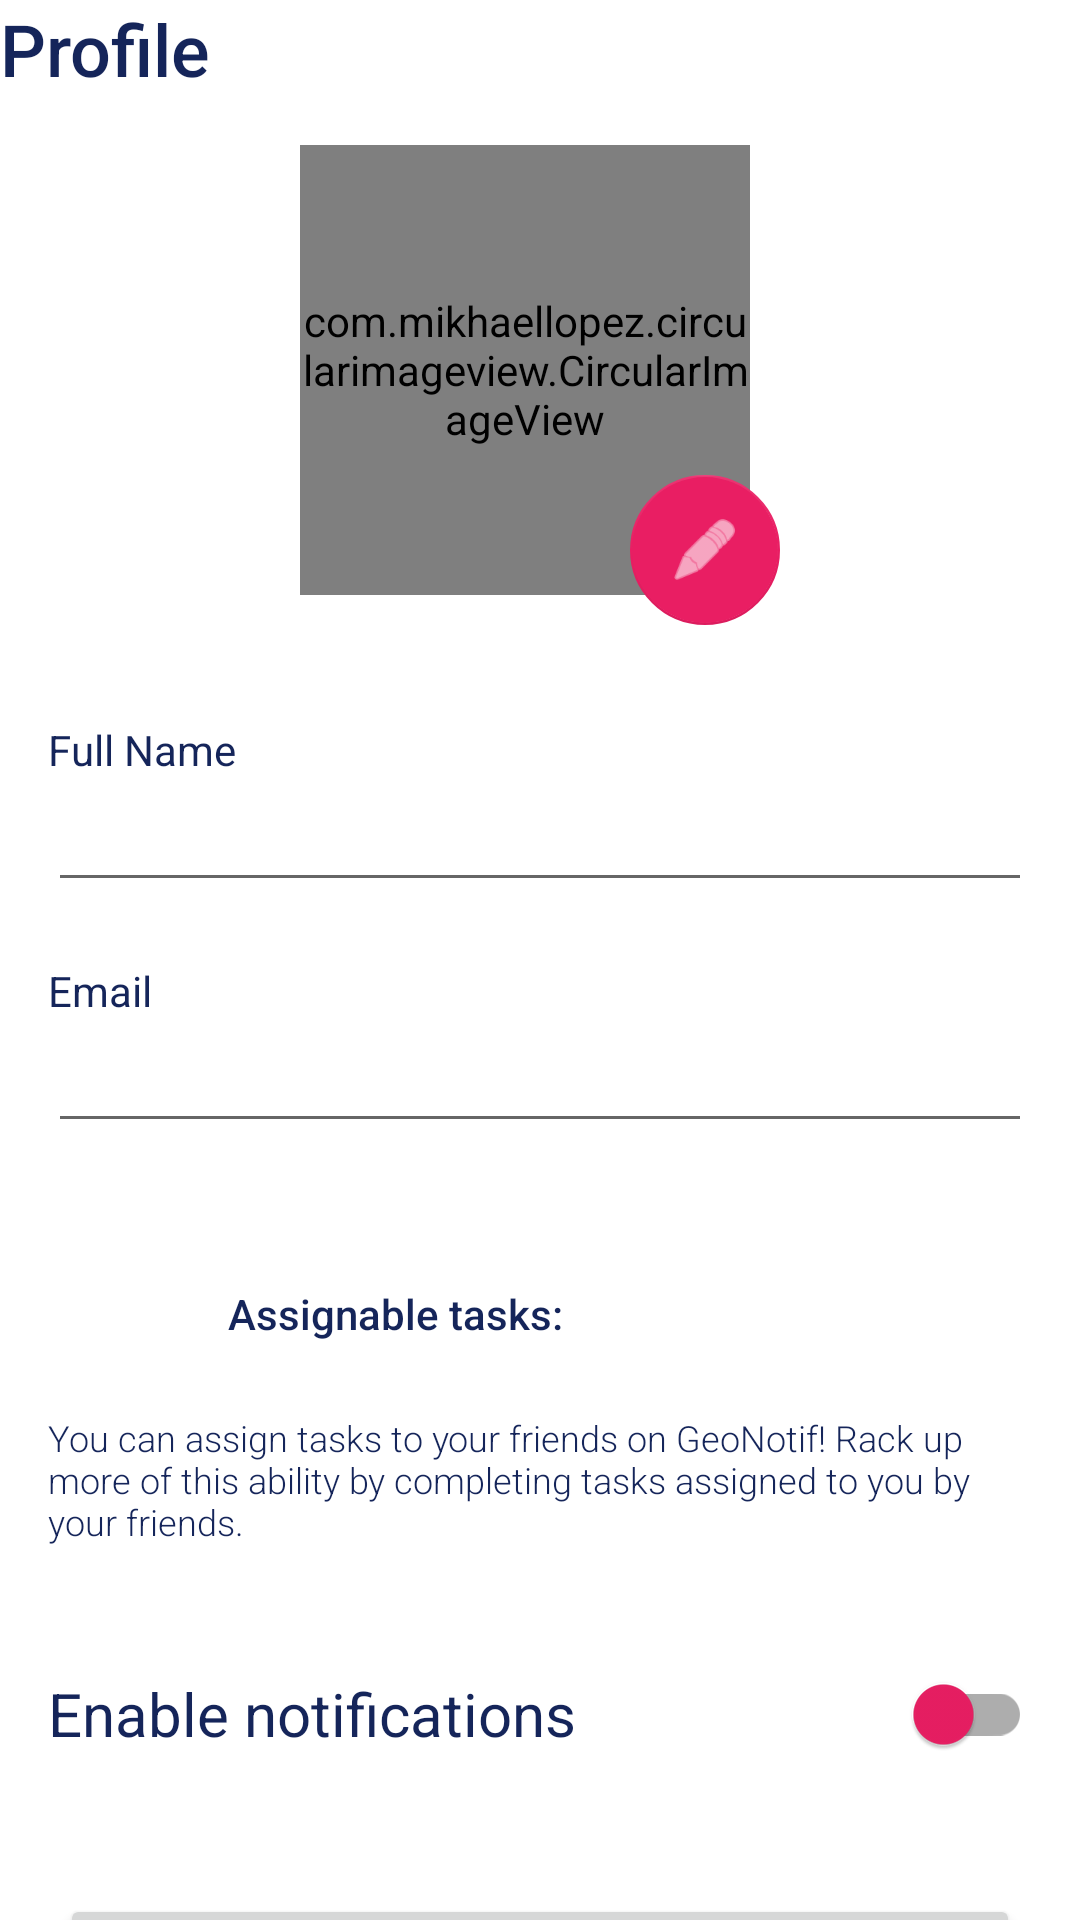

Where icons sit on this 1080x1920 app screen, as (x1, y1, x2, y2):
edit: (630, 475, 780, 625)
